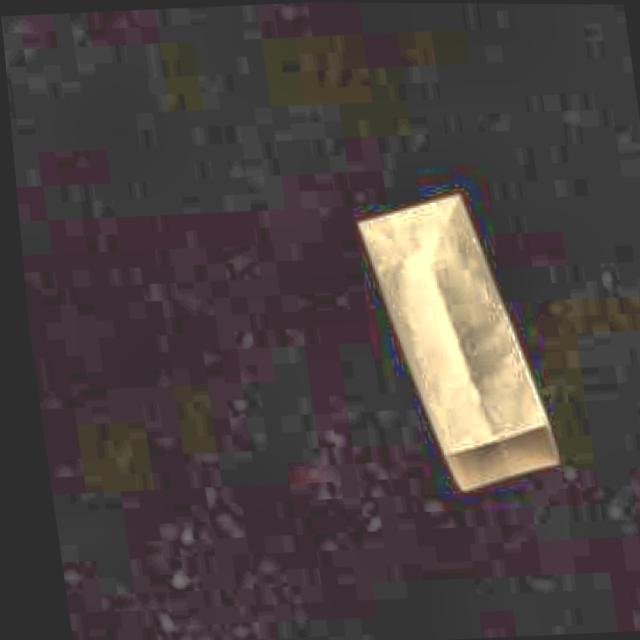Paper-bag: (335, 172, 566, 508)
